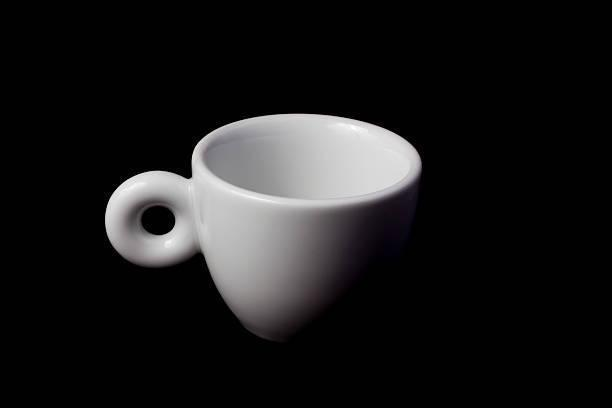cup-handle: (104, 111, 424, 343)
